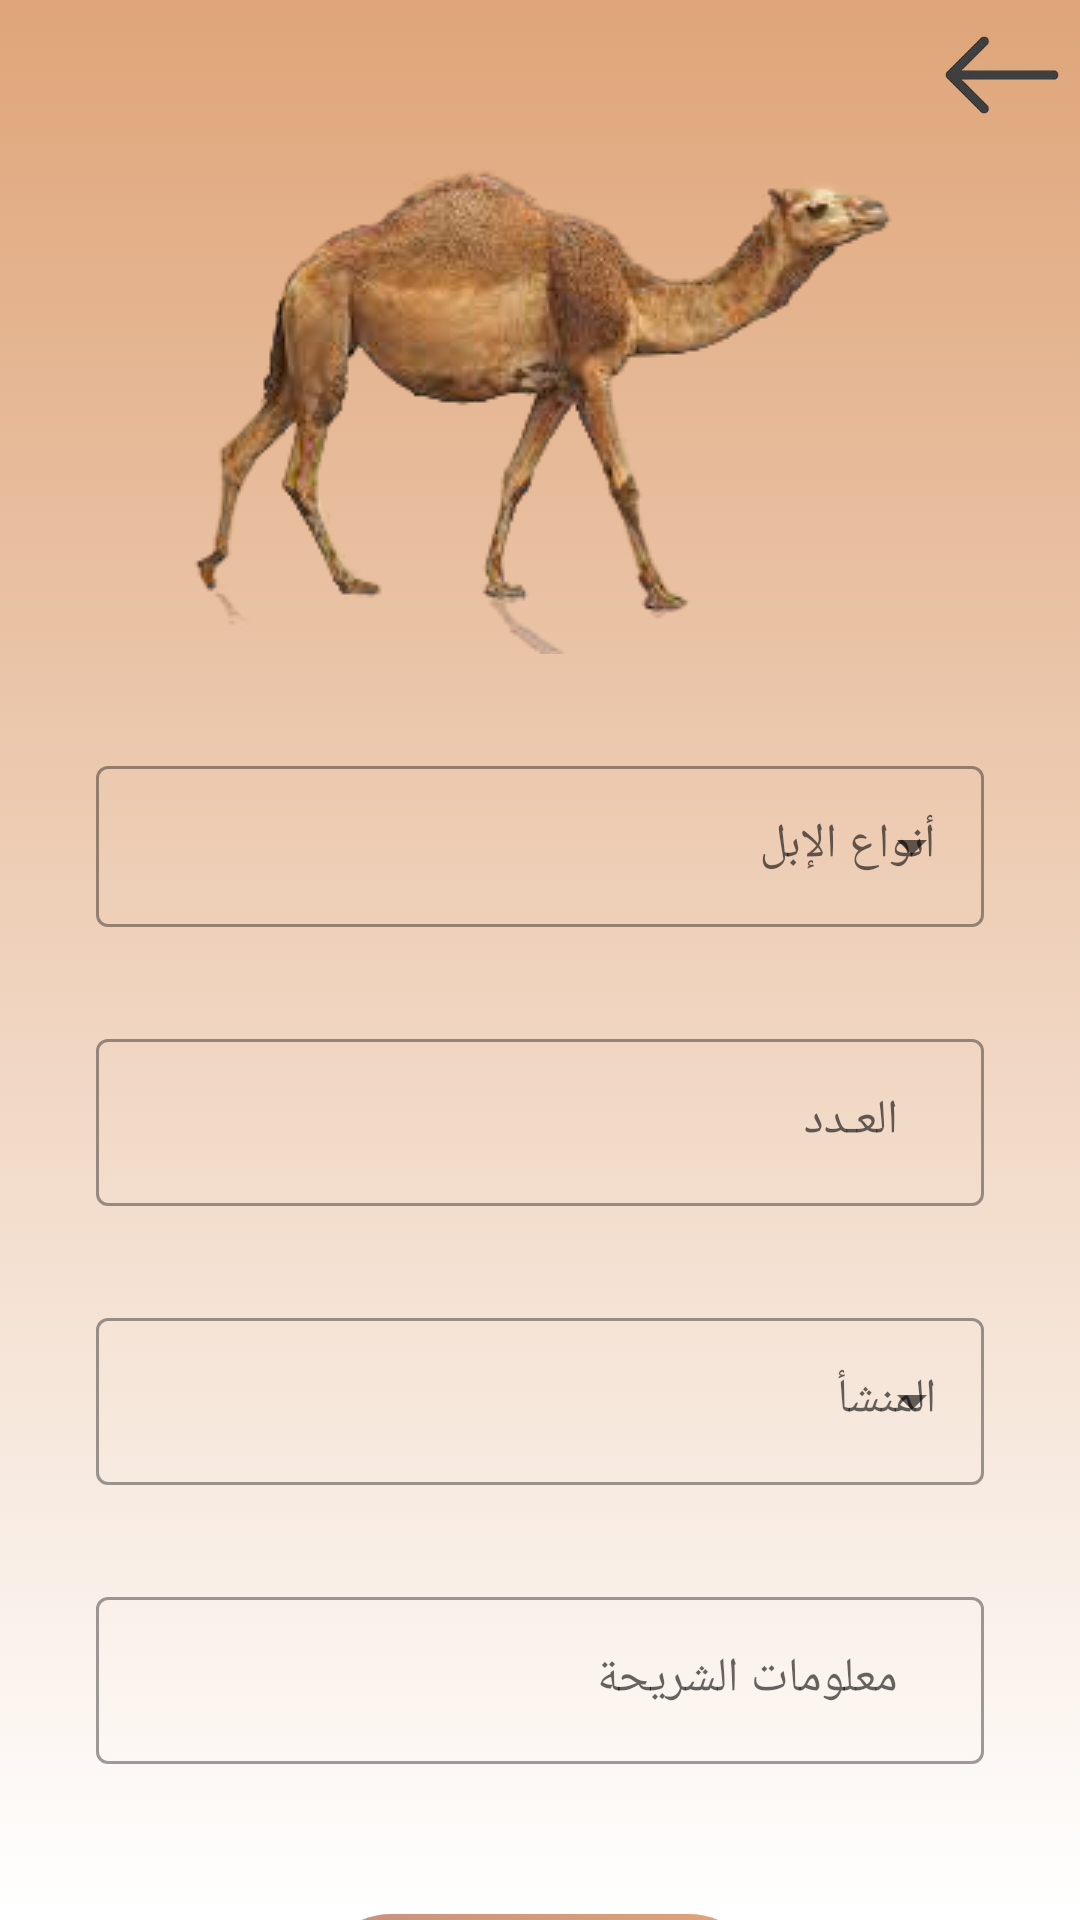

Locate icon controls on the screen. Image size 1080x1920, boxes as {"left": x1, "top": y1, "right": x2, "bottom": y2}.
back: {"left": 945, "top": 36, "right": 1059, "bottom": 114}
